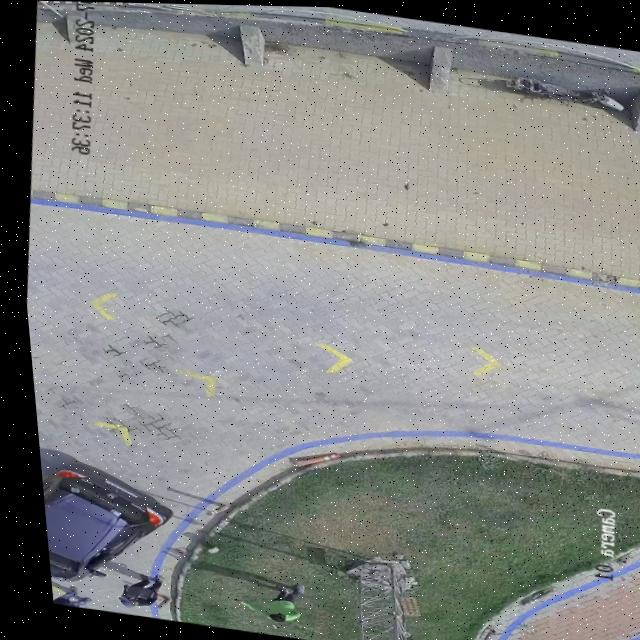car: (34, 462, 162, 580)
